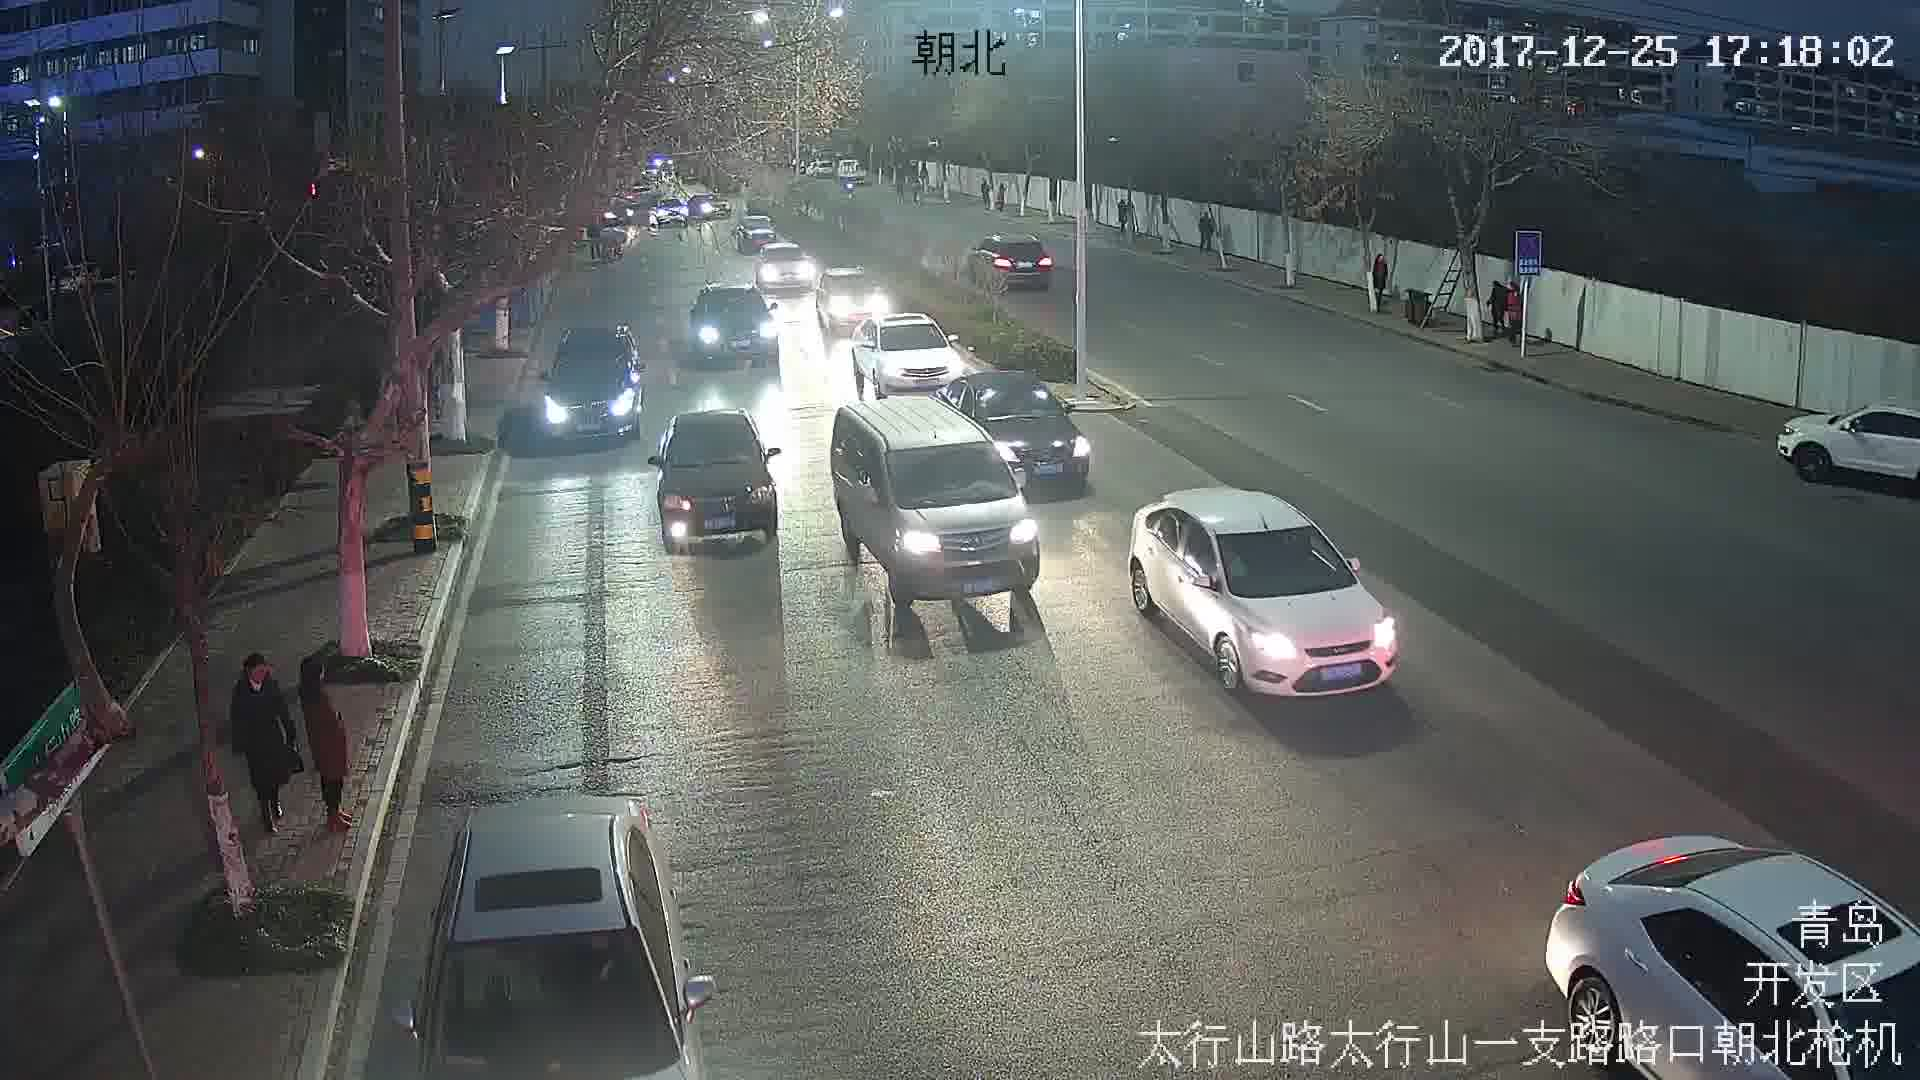car: (1130, 494, 1396, 699), (828, 392, 1038, 605), (652, 406, 777, 559), (545, 321, 649, 455), (850, 312, 968, 388), (692, 282, 782, 366)
person: (300, 663, 355, 834), (239, 660, 287, 832), (1367, 246, 1391, 303)
